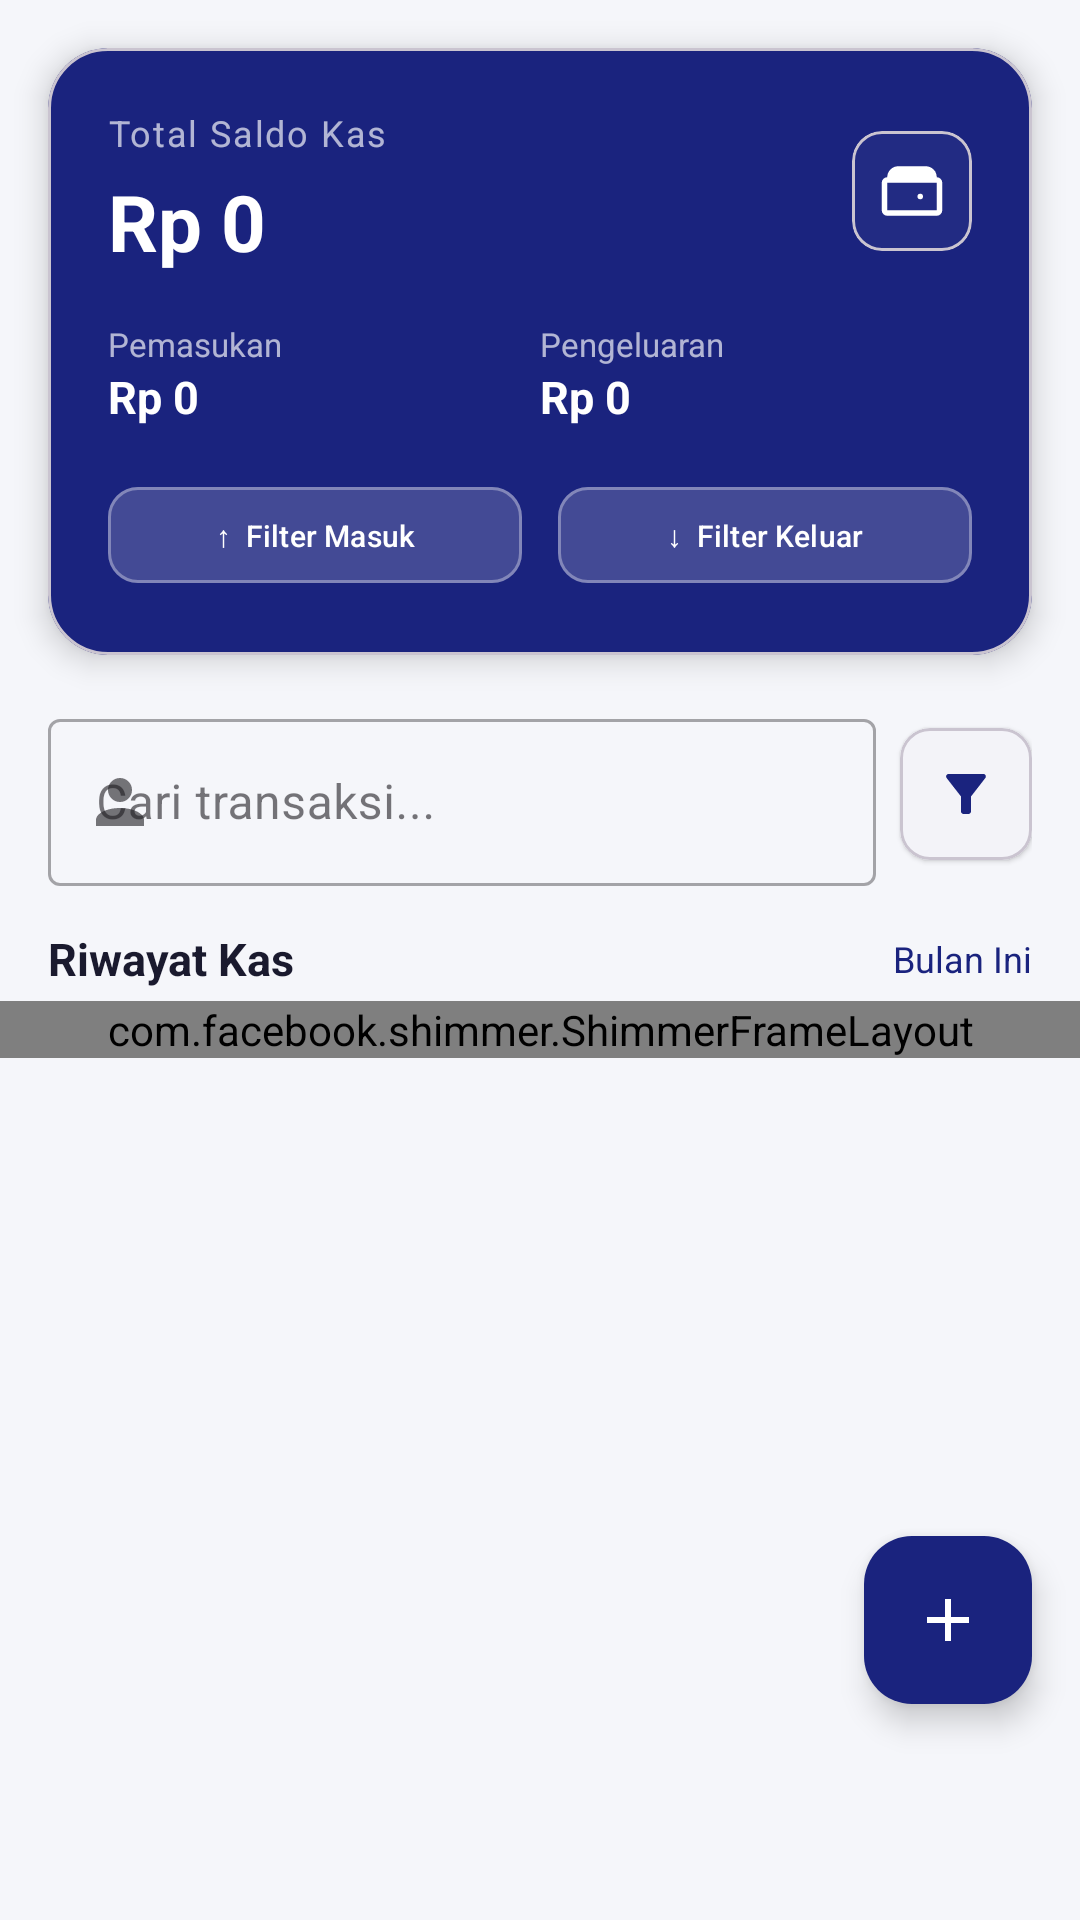

Screen size 1080w x 1920h. Icon name, then its box in pixels as detection(x1, y1, x2, y2):
filter: detection(946, 774, 986, 814)
Tambah Transaksi: detection(864, 1536, 1032, 1704)
wallet: detection(881, 166, 943, 216)
